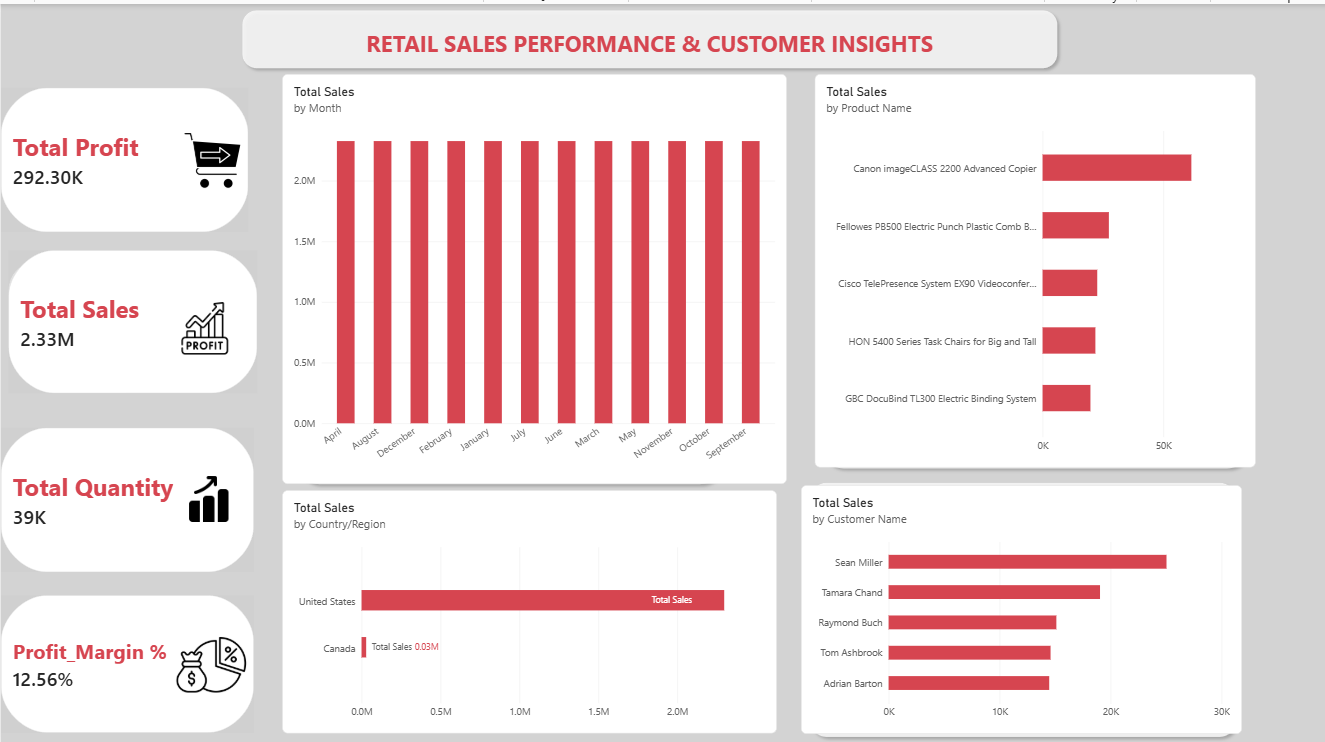

What the dashboard file says about the page in this screenshot:
{"tool":"powerbi","page":{"name":"Sales Overview","canvas":[1920,1080],"ordinal":0},"visuals":[{"type":"textbox","box":[10,0,1910,102],"z":0},{"type":"shape","box":[0,121.4,302.6,181.1],"z":1000},{"type":"shape","box":[0,613.4,302.6,181.1],"z":3000},{"type":"shape","box":[2.1,364.3,298.5,181.1],"z":4000},{"type":"shape","box":[340,0,1198,102],"z":5000},{"type":"textbox","box":[339.6,35,1197.9,67.9],"z":6000},{"type":"cardVisual","fields":{"Data":["Sales Table.Total Sales"]},"box":[10.3,356.1,360.2,207.9],"z":7000},{"type":"cardVisual","fields":{"Data":["Sales Table.Total Profit"]},"box":[0,121.4,358.1,209.9],"z":9000},{"type":"cardVisual","fields":{"Data":["Sales Table.Total Quantity"]},"box":[0,613.4,366.4,209.9],"z":10000},{"type":"cardVisual","fields":{"Data":["Sales Table.Profit_Margin %"]},"box":[0,856.3,366.4,199.7],"z":11000},{"type":"image","box":[244.9,181.1,125.6,92.6],"z":12000},{"type":"image","box":[238.8,903.6,131.7,107],"z":13000},{"type":"image","box":[257.3,430.2,76.2,78.2],"z":14000},{"type":"image","box":[238.8,679.2,123.5,76.2],"z":15000},{"type":"shape","box":[418,110,636.7,593.9],"z":16000},{"type":"lineClusteredColumnComboChart","fields":{"Category":["Months.Month"],"Y":["Sales Table.Total Sales"]},"box":[408,102,730.6,593.9],"z":19000},{"type":"shape","box":[1178,114,638.8,567.3],"z":19001},{"type":"shape","box":[1164,684,632,386],"z":19002},{"type":"shape","box":[418,740,657.1,253.1],"z":19003},{"type":"clusteredBarChart","fields":{"Category":["Sales Table.Country/Region"],"Y":["Sales Table.Total Sales"]},"box":[408,704,716,352],"z":19004},{"type":"clusteredBarChart","fields":{"Category":["Sales Table.Product Name"],"Y":["Sales Table.Total Sales"]},"box":[1178,102,638.8,569.4],"z":19005},{"type":"clusteredBarChart","fields":{"Category":["Sales Table.Customer Name"],"Y":["Sales Table.Total Sales"]},"box":[1158,696,638,360],"z":19006}]}

Visuals, with their boxes in screenshot pixels (x1, y1, x2, y2), scaled from the page's 1920x1080 canvas onto the 1325x742 screenshot:
textbox: x1=7, y1=0, x2=1324, y2=70
shape: x1=0, y1=83, x2=209, y2=208
shape: x1=0, y1=421, x2=209, y2=546
shape: x1=1, y1=250, x2=207, y2=375
shape: x1=235, y1=0, x2=1061, y2=70
textbox: x1=234, y1=24, x2=1061, y2=71
cardVisual - Sales Table.Total Sales: x1=7, y1=245, x2=256, y2=387
cardVisual - Sales Table.Total Profit: x1=0, y1=83, x2=247, y2=228
cardVisual - Sales Table.Total Quantity: x1=0, y1=421, x2=253, y2=566
cardVisual - Sales Table.Profit_Margin %: x1=0, y1=588, x2=253, y2=726
image: x1=169, y1=124, x2=256, y2=188
image: x1=165, y1=621, x2=256, y2=694
image: x1=178, y1=296, x2=230, y2=349
image: x1=165, y1=467, x2=250, y2=519
shape: x1=288, y1=76, x2=728, y2=484
lineClusteredColumnComboChart - Months.Month x Sales Table.Total Sales: x1=282, y1=70, x2=786, y2=478
shape: x1=813, y1=78, x2=1254, y2=468
shape: x1=803, y1=470, x2=1239, y2=735
shape: x1=288, y1=508, x2=742, y2=682
clusteredBarChart - Sales Table.Country/Region x Sales Table.Total Sales: x1=282, y1=484, x2=776, y2=726
clusteredBarChart - Sales Table.Product Name x Sales Table.Total Sales: x1=813, y1=70, x2=1254, y2=461
clusteredBarChart - Sales Table.Customer Name x Sales Table.Total Sales: x1=799, y1=478, x2=1239, y2=726
